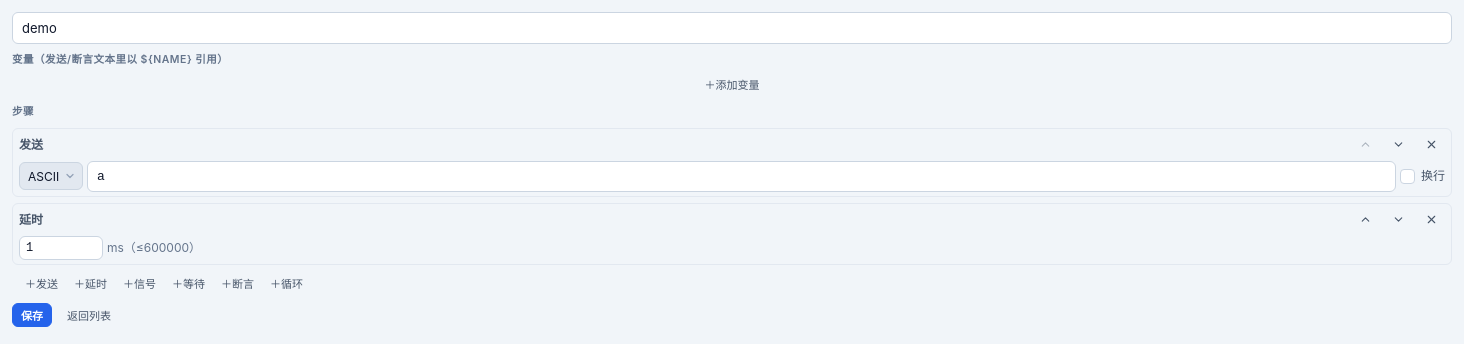
Scenario: ScenarioEditor（步骤树编辑） › 删除步骤
Click the button named "删除步骤 0（发送）": (1432, 144) [1416, 132, 1447, 156]
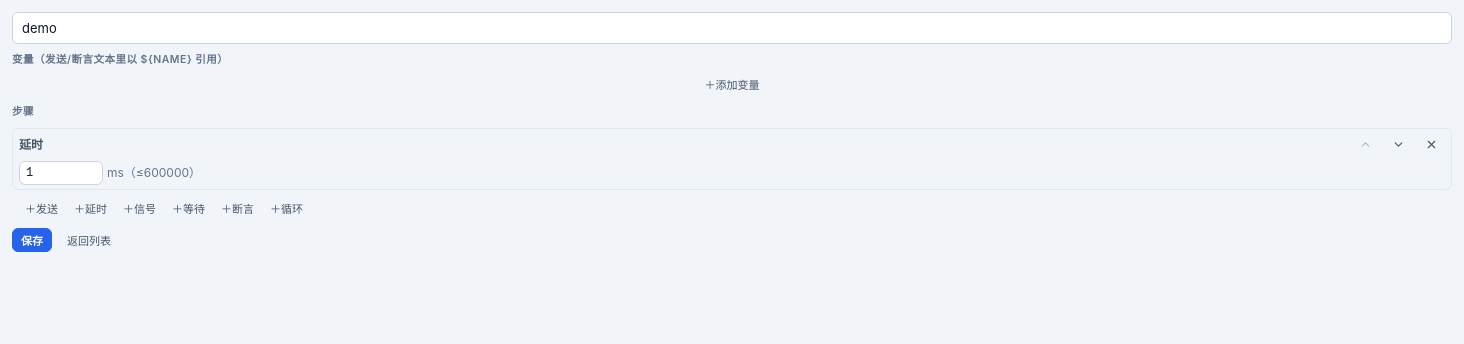
Expected: the text "延时" is shown, [19, 136, 43, 154]
